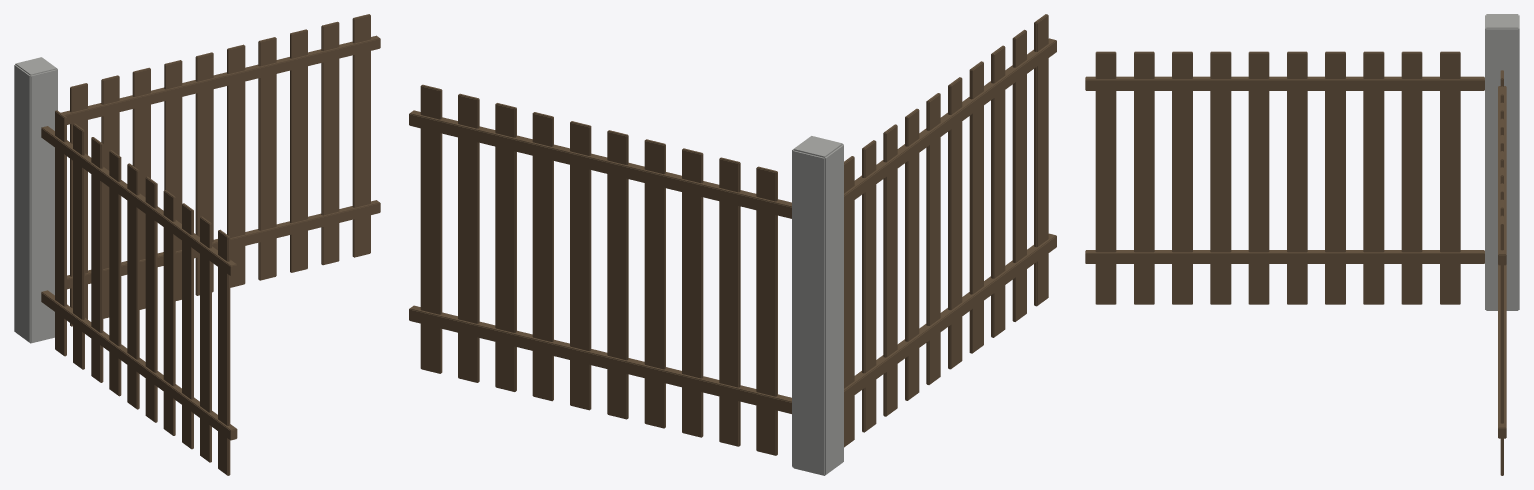
The model's file is fence_corner.glb.
3 views of the same model, side by side, from view 1: azimuth 30°, elevation 25°; view 2: azimuth 150°, elevation 25°; view 3: azimuth 270°, elevation 25° (orthographic). The views are drawn at different scales.
Parts seen in each view (by area): view 1: post, board.006, board.008, board.009, rail.001, board.007, board.005, board.004, board.003, board.014, board.015, board.016 (+13 smaller); view 2: post, board.009, rail, rail.001, board.001, board, board.004, board.008, board.002, board.003, board.006, board.007 (+13 smaller); view 3: post, rail.003, rail.002, board.012, board.016, board.011, board.015, board.019, board.010, board.013, board.014, board.017 (+4 smaller).
Part boxes in pixels (x1,y1,x2,y2): post: (14, 57, 57, 343); board.006: (258, 37, 276, 280); board.008: (321, 21, 339, 265); board.009: (352, 14, 370, 257); rail.001: (61, 35, 380, 124); board.007: (290, 29, 307, 272); board.005: (227, 44, 245, 287); board.004: (195, 52, 213, 295); board.003: (164, 60, 182, 300); board.014: (127, 163, 139, 409); board.015: (145, 176, 157, 422); board.016: (163, 190, 175, 435); post: (792, 136, 843, 475); board.009: (420, 84, 442, 373); rail: (409, 305, 791, 413); rail.001: (409, 110, 791, 218); board.001: (719, 157, 740, 446); board: (756, 166, 777, 455); board.004: (607, 130, 628, 419); board.008: (458, 93, 479, 382); board.002: (682, 148, 703, 437); board.003: (644, 139, 665, 428); board.006: (532, 112, 553, 401); board.007: (495, 103, 516, 391); post: (1485, 14, 1519, 310); rail.003: (1085, 76, 1484, 90); rail.002: (1085, 250, 1484, 263); board.012: (1363, 51, 1384, 304); board.016: (1210, 51, 1231, 304); board.011: (1401, 51, 1422, 304); board.015: (1248, 51, 1269, 304); board.019: (1095, 51, 1116, 304); board.010: (1440, 51, 1460, 304); board.013: (1325, 51, 1345, 304); board.014: (1287, 51, 1307, 304); board.017: (1172, 51, 1192, 304).
Size of what is drawn, in the model's own units: 2.5 by 1.8 by 2.5.
